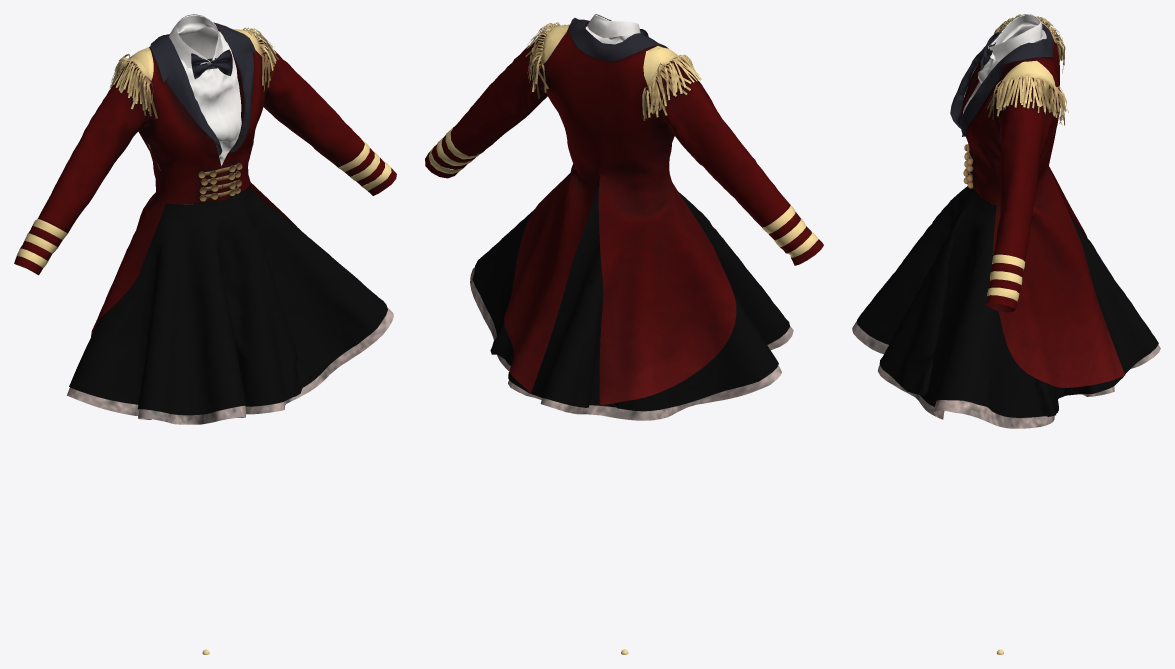
The picture shows the model from 3 angles, left to right: view 1: azimuth 30°, elevation 25°; view 2: azimuth 150°, elevation 25°; view 3: azimuth 270°, elevation 25°; orthographic projection. The views are drawn at different scales.
Parts seen in each view (by area): view 1: Top skirt_6, Jacket_4, Blouse_0, Underskirt_7, Tassles_5, Bowtie_1, Buttons_3; view 2: Jacket_4, Top skirt_6, Underskirt_7, Tassles_5, Blouse_0; view 3: Jacket_4, Top skirt_6, Underskirt_7, Tassles_5, Blouse_0.
Boxes of the visible parts, x1,y1,x2,y2 form: Top skirt_6: (69, 171, 387, 415); Jacket_4: (14, 22, 396, 336); Blouse_0: (21, 14, 380, 256); Underskirt_7: (67, 204, 393, 424); Tassles_5: (109, 27, 278, 654); Bowtie_1: (191, 49, 232, 79); Buttons_3: (198, 163, 242, 201); Jacket_4: (425, 18, 823, 405); Top skirt_6: (472, 174, 789, 411); Underskirt_7: (470, 267, 793, 420); Tassles_5: (525, 22, 701, 654); Blouse_0: (435, 14, 797, 239); Jacket_4: (950, 21, 1124, 387); Top skirt_6: (857, 186, 1158, 417); Underskirt_7: (852, 197, 1160, 428); Tassles_5: (985, 14, 1068, 654); Blouse_0: (963, 14, 1048, 295).
Size of the model in its own units: 0.9909 by 1.56 by 0.689.
11 materials, 11 textured.
